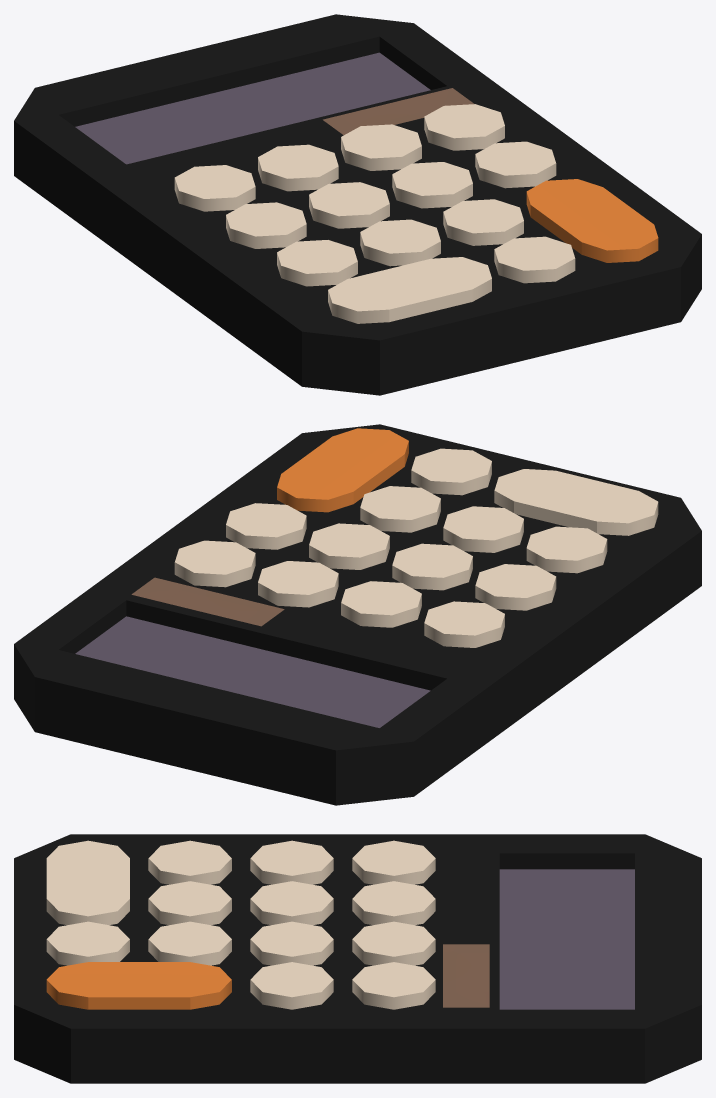
Rendered from calculator.fbx.
3 renders of one model, top to bottom at view 1: azimuth 30°, elevation 25°; view 2: azimuth 150°, elevation 25°; view 3: azimuth 270°, elevation 25°, orthographic.
Visible parts, largest first — view 1: calculator; view 2: calculator; view 3: calculator.
Part boxes in pixels (x1,y1,x2,y2): calculator: (14, 14, 701, 395); calculator: (14, 424, 701, 805); calculator: (14, 834, 701, 1083).
Size of the model in its own units: 10.16 by 1.64 by 15.18.
